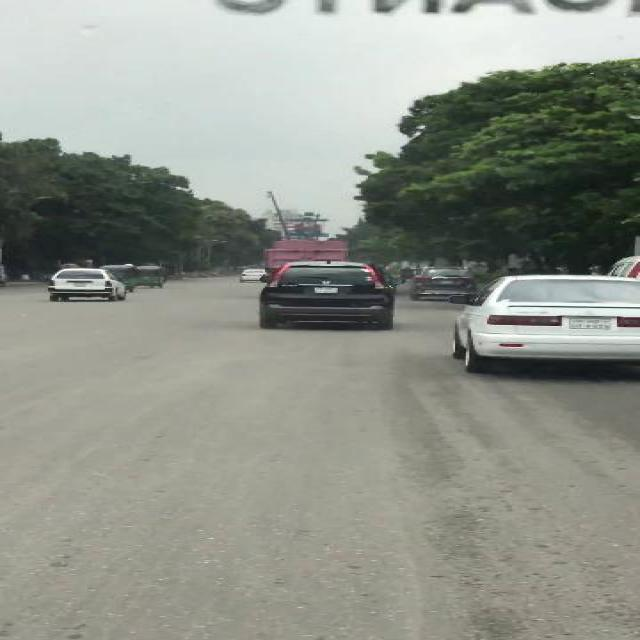vehicle: (466, 279, 638, 372), (260, 261, 400, 332), (47, 268, 127, 302), (409, 265, 475, 303), (135, 266, 167, 291), (239, 270, 264, 285)
